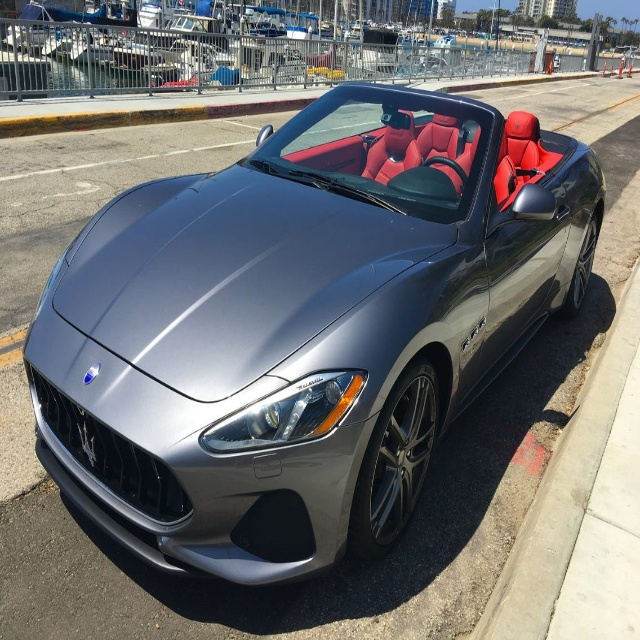Car: (21, 82, 606, 587)
